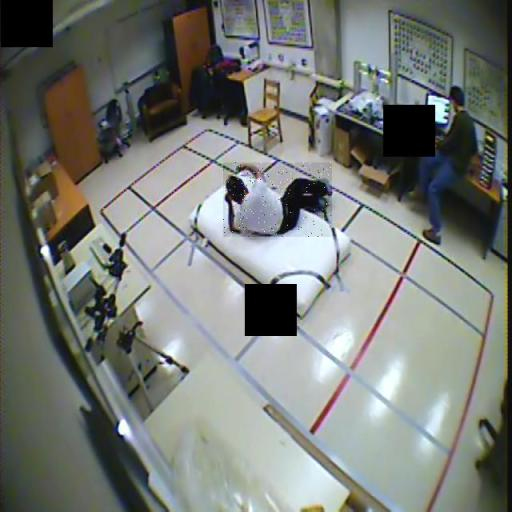Fall: (223, 162, 332, 237)
